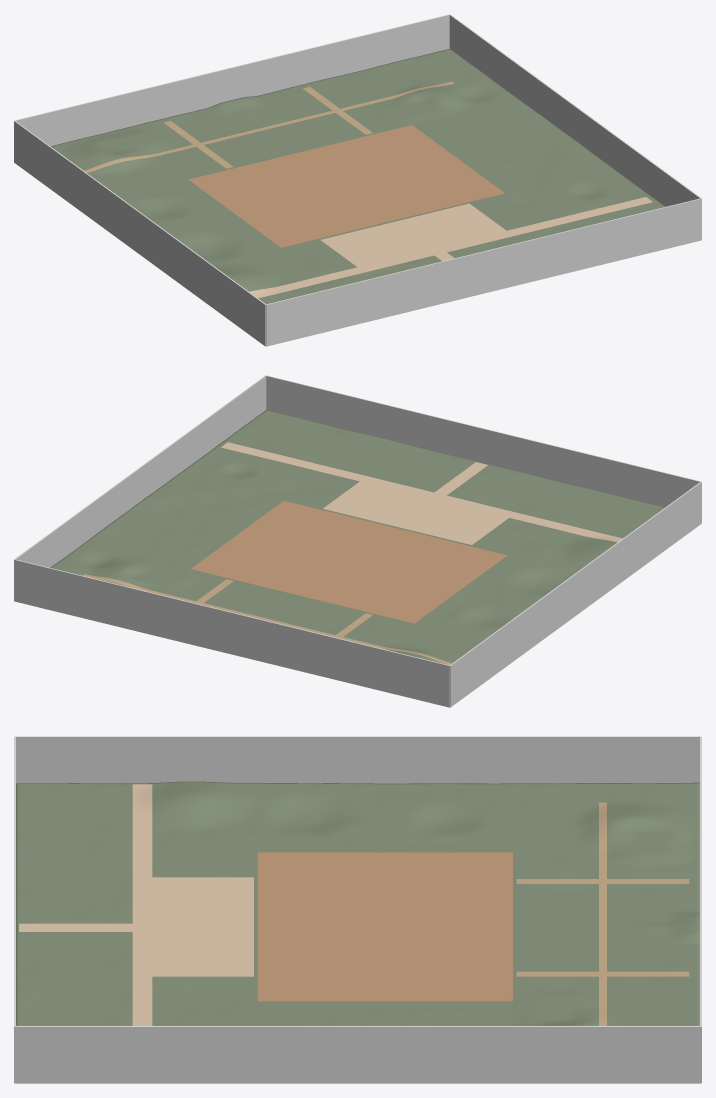
File: HauntedBakery_Ground.fbx
The picture shows the model from 3 angles, top to bottom: view 1: azimuth 30°, elevation 25°; view 2: azimuth 150°, elevation 25°; view 3: azimuth 270°, elevation 25°; orthographic projection. The views are drawn at different scales.
Visible parts, largest first — view 1: HAU_Terrain_Walkable, HAU_COL_Boundary_01, HAU_COL_Boundary, HAU_COL_Boundary_03, HAU_COL_Boundary_02; view 2: HAU_Terrain_Walkable, HAU_COL_Boundary, HAU_COL_Boundary_01, HAU_COL_Boundary_03, HAU_COL_Boundary_02; view 3: HAU_Terrain_Walkable, HAU_COL_Boundary_02, HAU_COL_Boundary_03, HAU_COL_Boundary, HAU_COL_Boundary_01.
Boxes of the visible parts, <box> form: HAU_Terrain_Walkable: <box>51,49,665,304</box>; HAU_COL_Boundary_01: <box>266,198,701,346</box>; HAU_COL_Boundary: <box>14,14,449,146</box>; HAU_COL_Boundary_03: <box>14,121,265,346</box>; HAU_COL_Boundary_02: <box>449,14,701,239</box>; HAU_Terrain_Walkable: <box>50,410,665,665</box>; HAU_COL_Boundary: <box>14,559,449,707</box>; HAU_COL_Boundary_01: <box>266,375,701,506</box>; HAU_COL_Boundary_03: <box>450,482,701,707</box>; HAU_COL_Boundary_02: <box>14,375,266,600</box>; HAU_Terrain_Walkable: <box>16,781,699,1025</box>; HAU_COL_Boundary_02: <box>15,1026,700,1083</box>; HAU_COL_Boundary_03: <box>15,736,700,783</box>; HAU_COL_Boundary: <box>700,736,701,1083</box>; HAU_COL_Boundary_01: <box>14,736,15,1083</box>.
Size of the model in its own units: 351 by 32 by 351.
